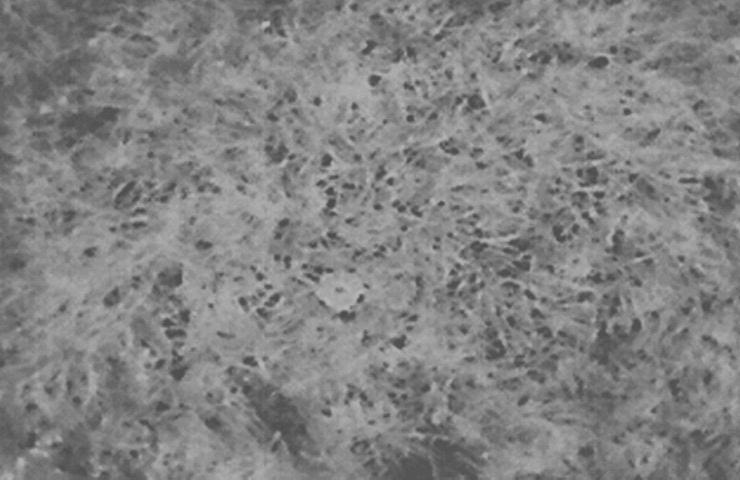landmines: (316, 266, 369, 314)
